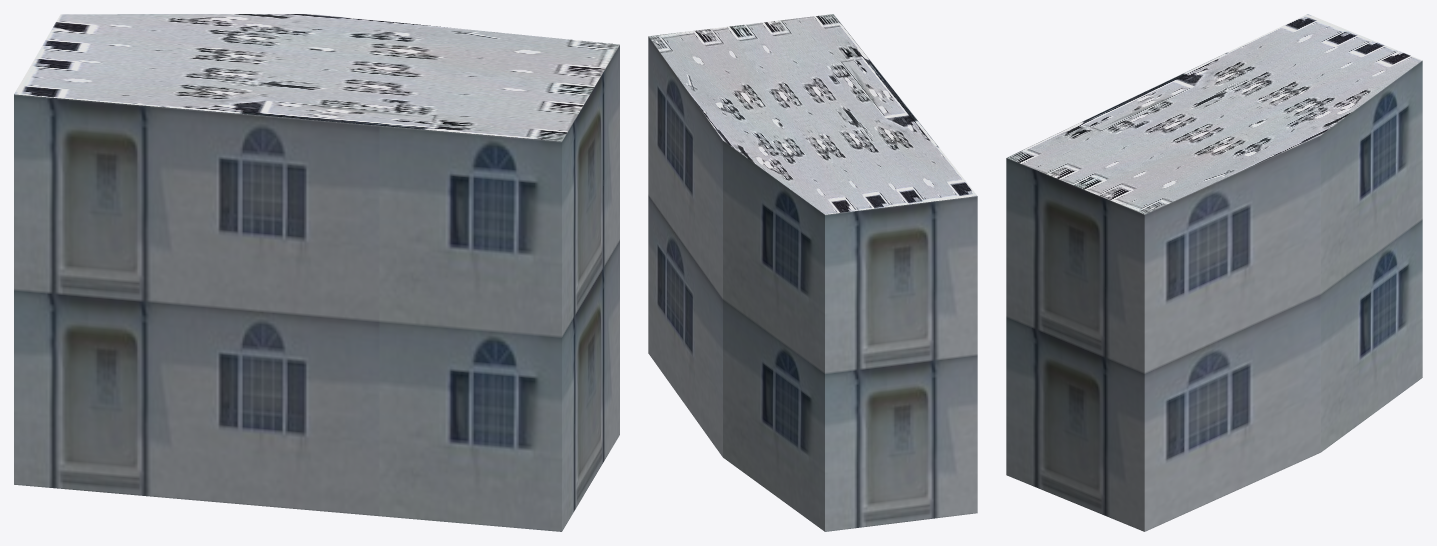
Rendered from ResTex__453.fbx.
The picture shows the model from 3 angles, left to right: view 1: azimuth 30°, elevation 25°; view 2: azimuth 150°, elevation 25°; view 3: azimuth 270°, elevation 25°; orthographic projection. The views are drawn at different scales.
Visible parts, largest first — view 1: CityEngineMaterial_17_m, CityEngineMaterial_4_m; view 2: CityEngineMaterial_17_m, CityEngineMaterial_4_m; view 3: CityEngineMaterial_17_m, CityEngineMaterial_4_m.
Boxes of the visible parts, x1=… form: CityEngineMaterial_17_m: x1=14, y1=45, x2=619, y2=531; CityEngineMaterial_4_m: x1=14, y1=14, x2=619, y2=141; CityEngineMaterial_17_m: x1=648, y1=36, x2=977, y2=531; CityEngineMaterial_4_m: x1=648, y1=14, x2=976, y2=214; CityEngineMaterial_17_m: x1=1006, y1=60, x2=1422, y2=531; CityEngineMaterial_4_m: x1=1007, y1=14, x2=1422, y2=214.
Bounding box in the file's own units: 8.13 × 6 × 7.13.
2 materials, 2 textured.
